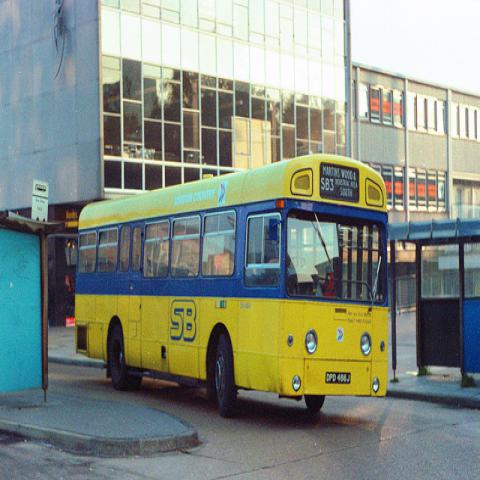bus: (76, 158, 389, 420)
